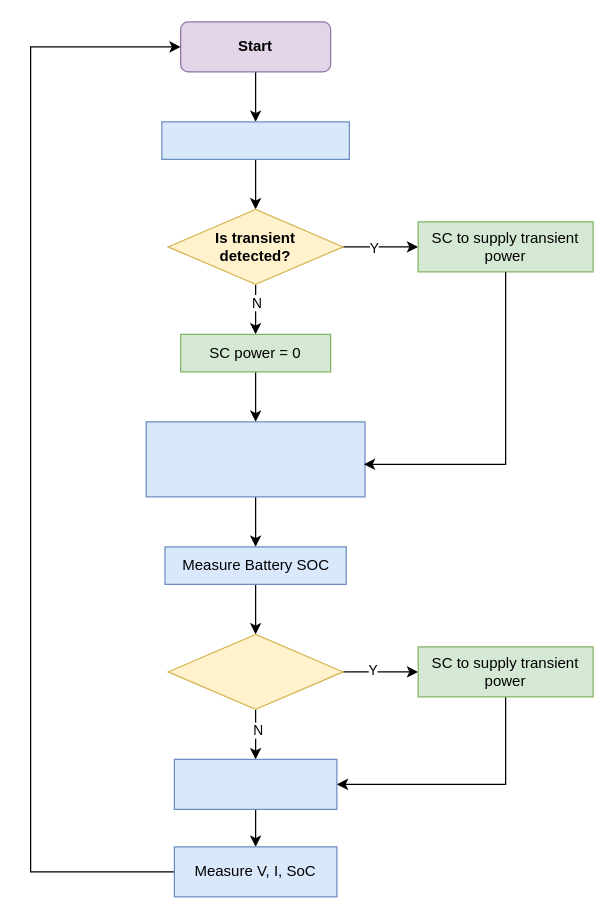
This 615x919 diagram has some shape labels left out. The shapes that lost their labels are listed below. From the top down, each one's box as (x1, y1, x2, y2) in pixels, then its label:
(161, 121, 349, 159): Measure Power Demand
(145, 421, 365, 497): Calculate Battery Power Request = load demand - SC power
(167, 633, 343, 709): Is SOC below threshold?
(173, 758, 337, 809): Dispatch power cmds to SC and Battery
